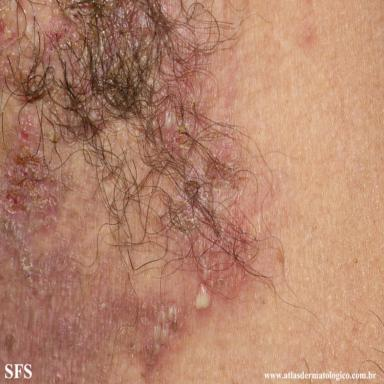Hailey-Hailey-Disease: (0, 0, 259, 384)
